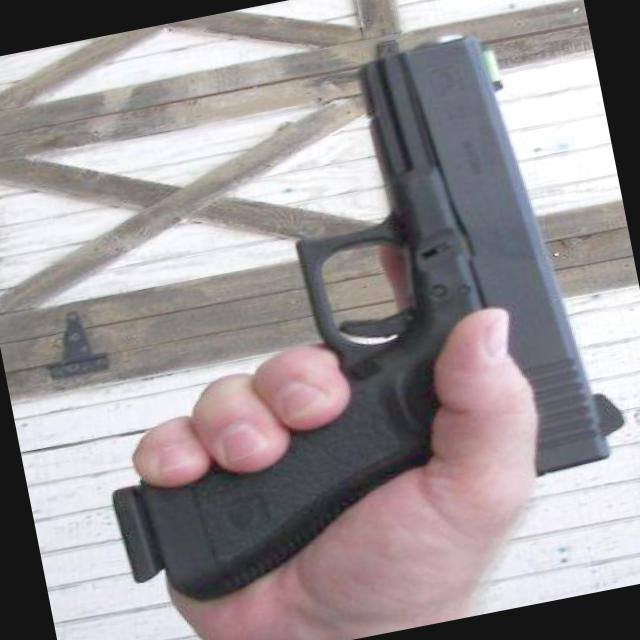handgun: (33, 3, 639, 611)
